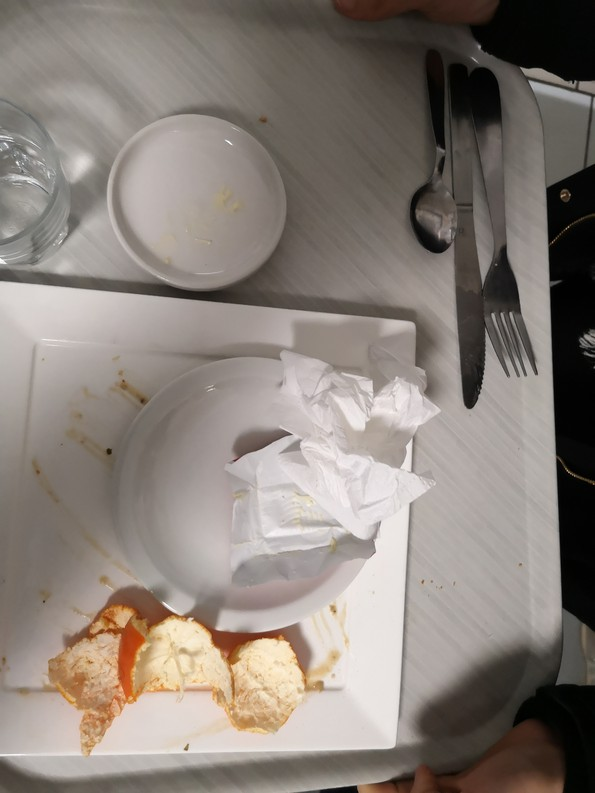cup: (1, 84, 73, 273)
cutlery: (396, 47, 555, 408)
orga: (71, 590, 308, 744)
trash: (237, 319, 438, 586)
